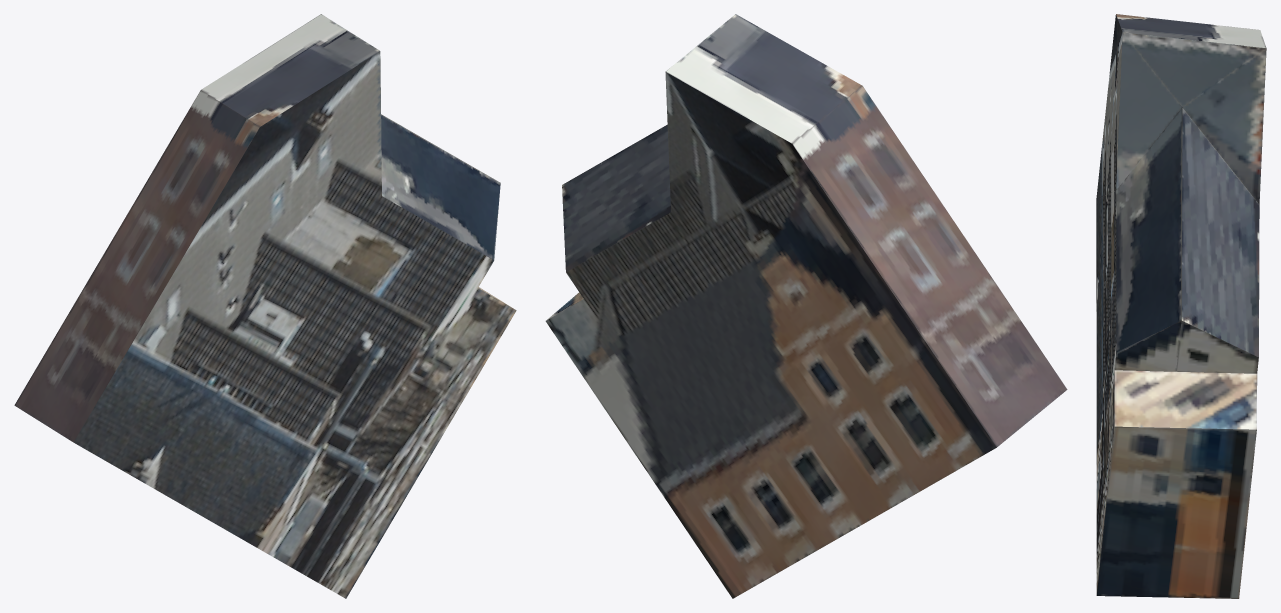
3 renders of one model, left to right at view 1: azimuth 30°, elevation 25°; view 2: azimuth 150°, elevation 25°; view 3: azimuth 270°, elevation 25°, orthographic. The views are drawn at different scales.
Parts seen in each view (by area): view 1: BAG_0599100000671724 (×3); view 2: BAG_0599100000671724 (×2); view 3: BAG_0599100000671724 (×5).
Part boxes in pixels (left/top/right/bottom): BAG_0599100000671724 (×3): left=14, top=14, right=516, bottom=598; BAG_0599100000671724 (×2): left=545, top=14, right=1067, bottom=598; BAG_0599100000671724 (×5): left=1096, top=14, right=1266, bottom=598.
Bounding box in the file's own units: 20.22 × 22.11 × 5.75.
Materials: 5 (5 with a texture image).
